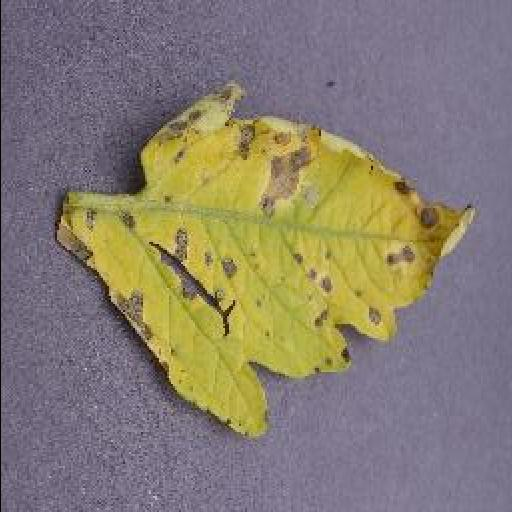disease_tomato: (54, 84, 474, 436)
